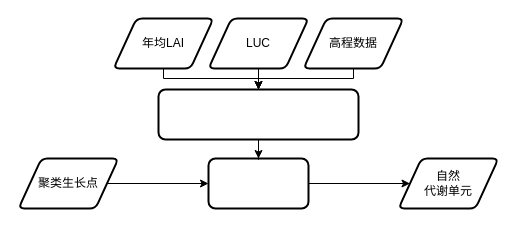
Image size: 516x226. Some labels were removed from this diagram. The shapes that lost their labels are listed below. From the top down, each one's centre as x and y in pixels, then its label:
At (258,114): "要素特征提取 （平均、方差、增长……）".
At (258,183): "SNIC分割算法".
